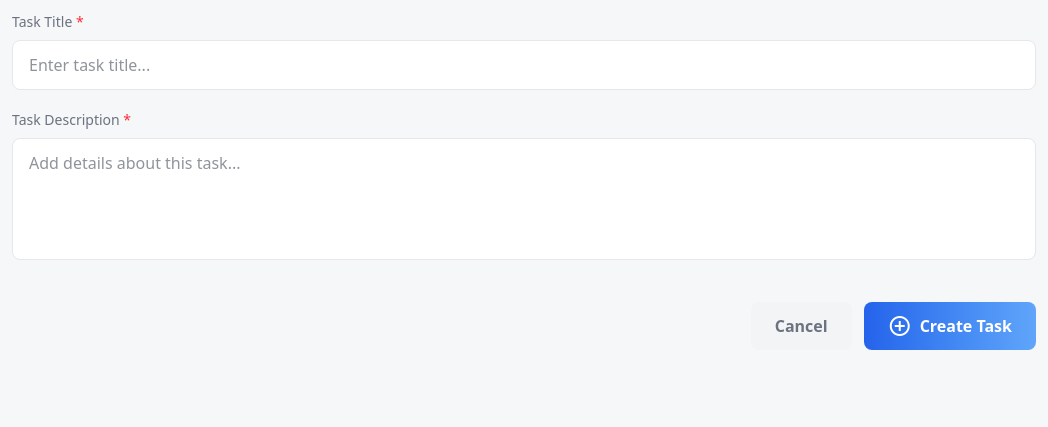
Scenario: TaskForm Component › should clear title error when user starts typing
// Submit empty form to trigger errors
Click the button "Create Task".
click(950, 326)  # box [864,302,1036,350]
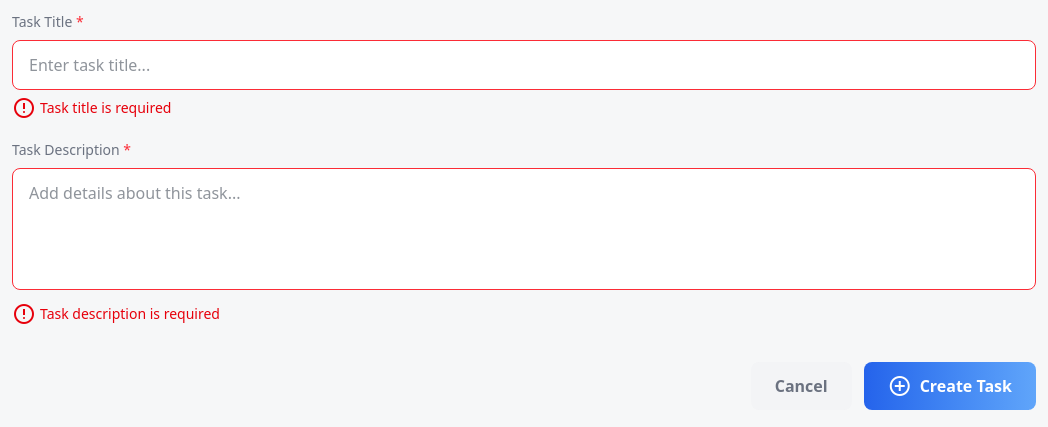
Check: the text "Task title is required" is shown, box [12,94,172,122]
// Start typing in title field
Type "N" into the field with placeholder "Enter task title...".
click(524, 65); type("N")  # box [12,40,1036,90]
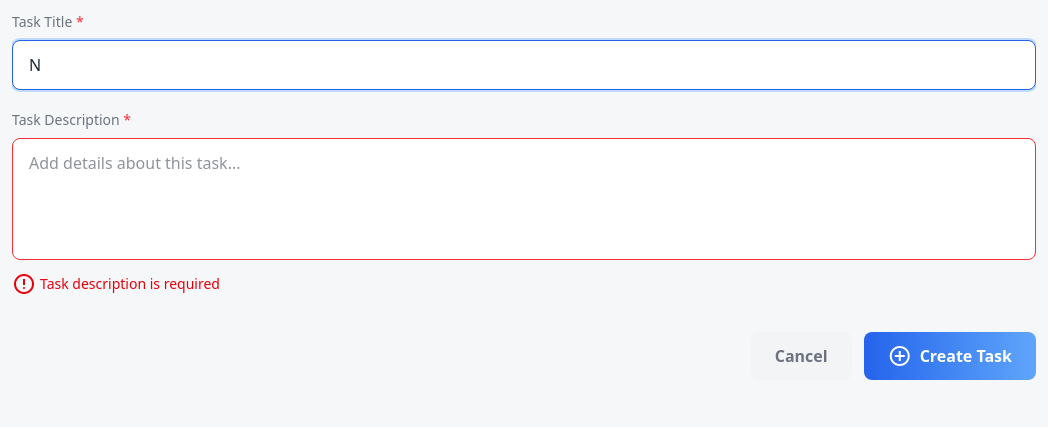
Check: the text "Task title is required" is gone
